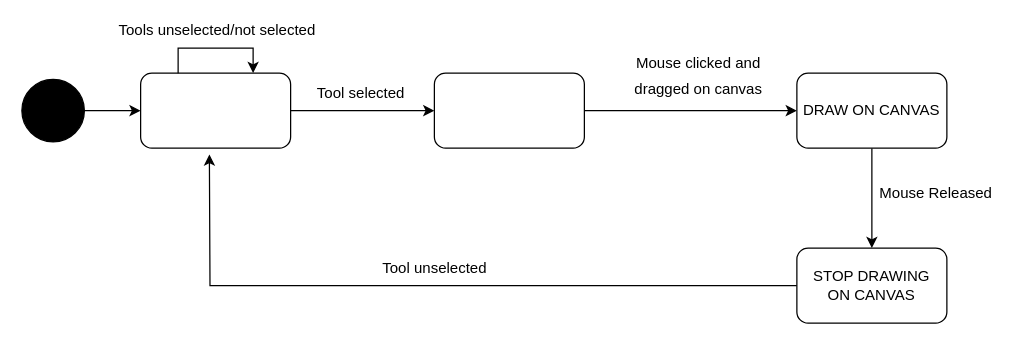
Some shapes in this 1013 by 345 pixel diagram are drawn without their labels. Each missing label, with the centre of its shape:
IDLE: [215,110]
READY TO DRAW: [508,110]
